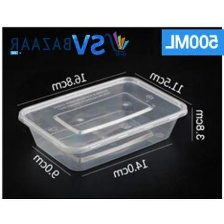plastic_box: (12, 70, 192, 177)
